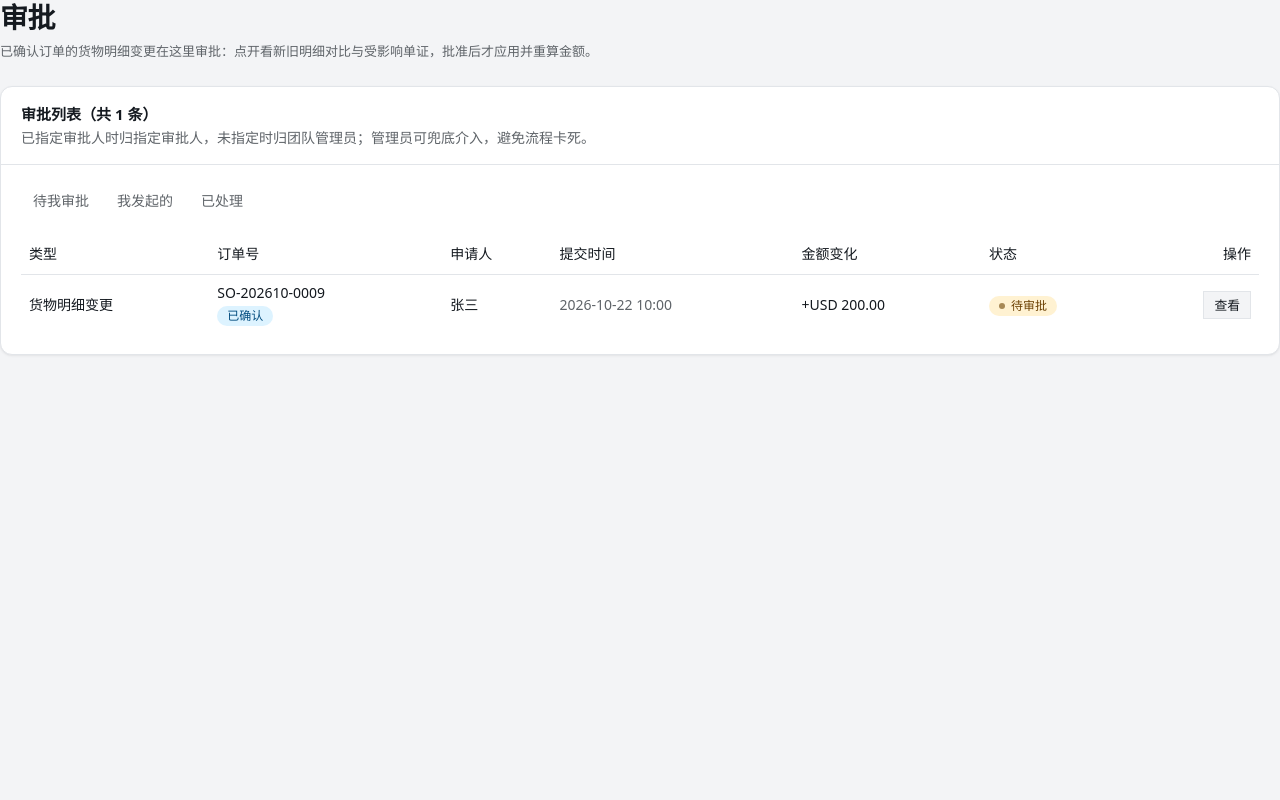
Test: 审批详情与决策 › 旧行无 affected_docs：回退 GET /trade-docs（只列本订单）并展示详情
Click the button "查看". click: (1227, 305)
box: x1=1203 y1=291 x2=1251 y2=319
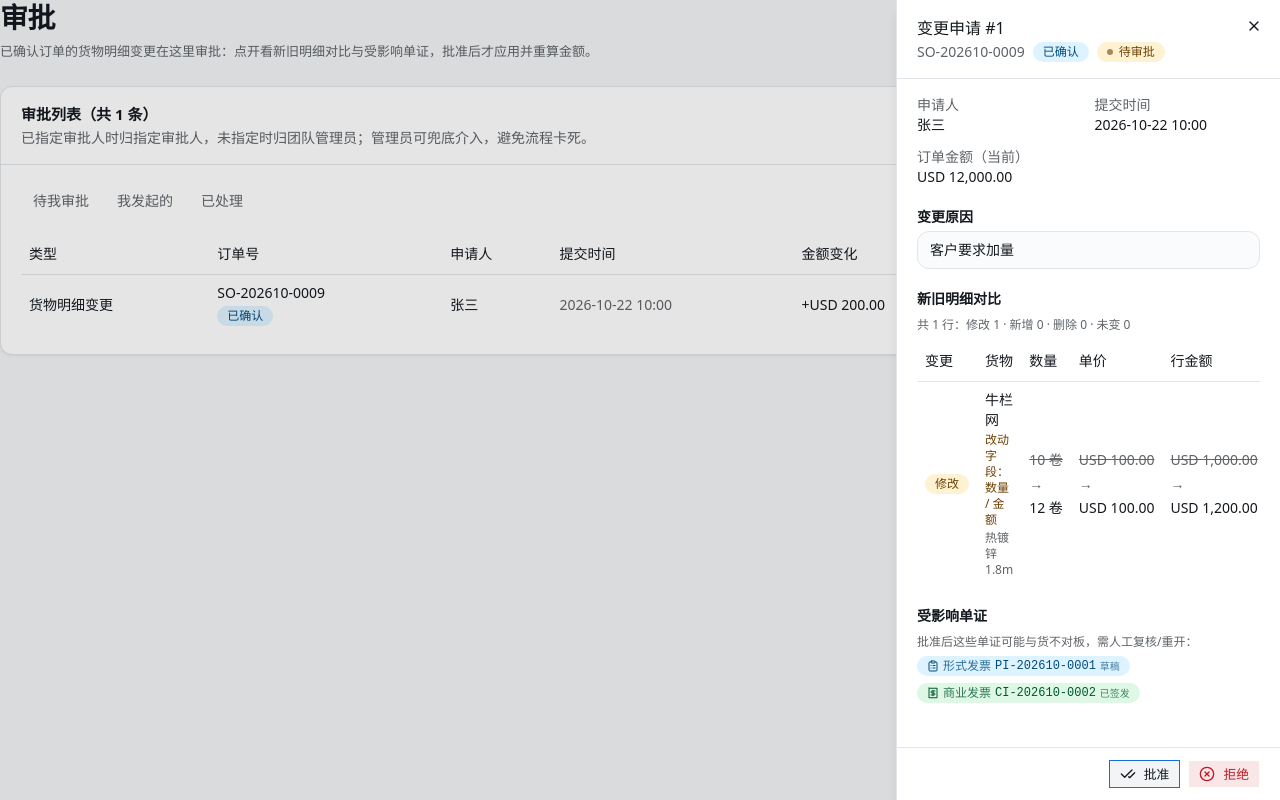
Now the text "变更申请 #1" is shown, box x1=917 y1=17 x2=1005 y2=39
Now the text "客户要求加量" is shown, box x1=917 y1=231 x2=1260 y2=269
Now the text "修改" is shown, box x1=939 y1=316 x2=993 y2=333
